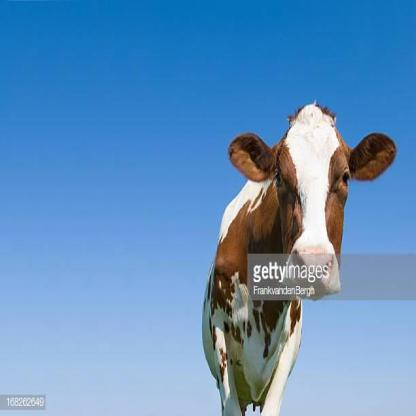cow: (202, 101, 397, 416)
